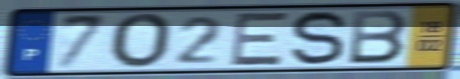2: (174, 14, 226, 66)
7: (58, 12, 109, 72)
B: (347, 9, 410, 66)
E: (227, 10, 292, 68)
O: (109, 11, 176, 70)
S: (289, 9, 350, 68)
